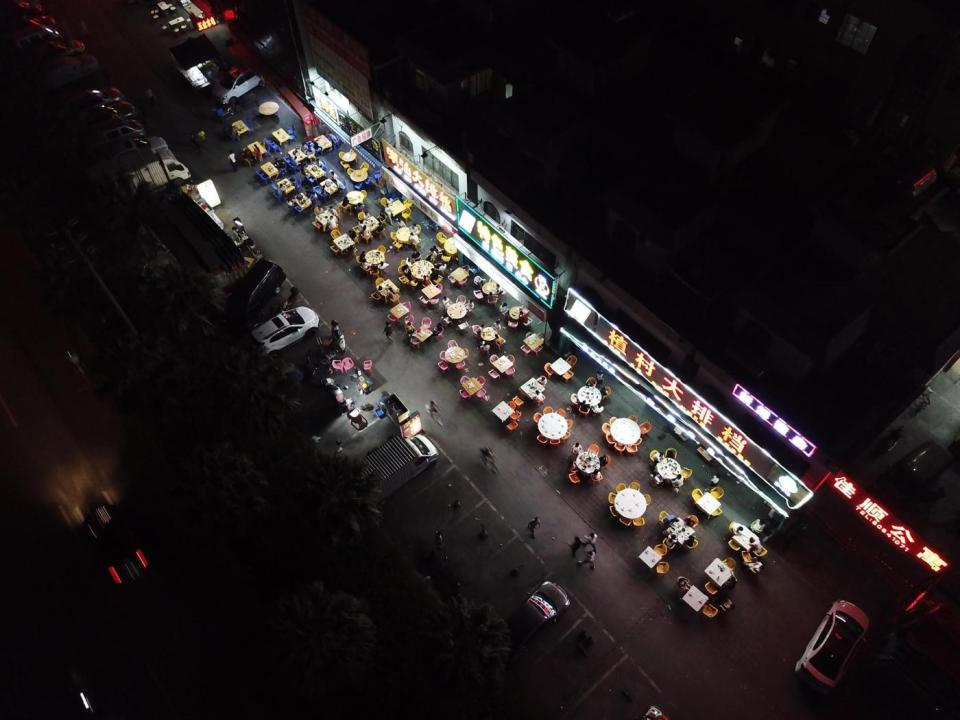car: (82, 491, 157, 589), (796, 598, 870, 695), (248, 306, 321, 362), (29, 53, 101, 94), (90, 134, 169, 169), (16, 38, 84, 68), (211, 66, 264, 104), (78, 100, 137, 130), (69, 86, 124, 116)
truck: (82, 148, 192, 212)
van: (498, 580, 570, 652), (879, 438, 955, 502), (224, 258, 287, 330), (86, 118, 145, 150), (9, 25, 62, 50)
